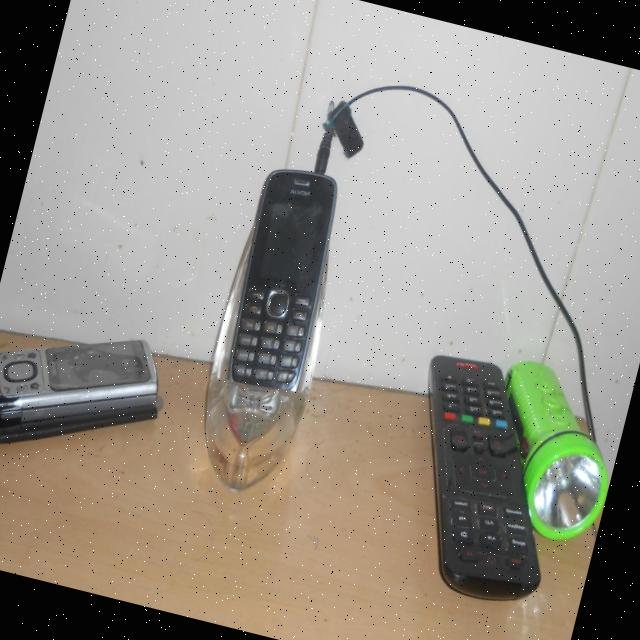Phone: (213, 160, 349, 396), (0, 304, 172, 458)
